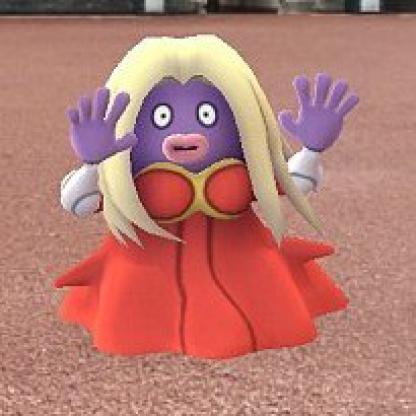Jynx: (68, 28, 366, 362)
